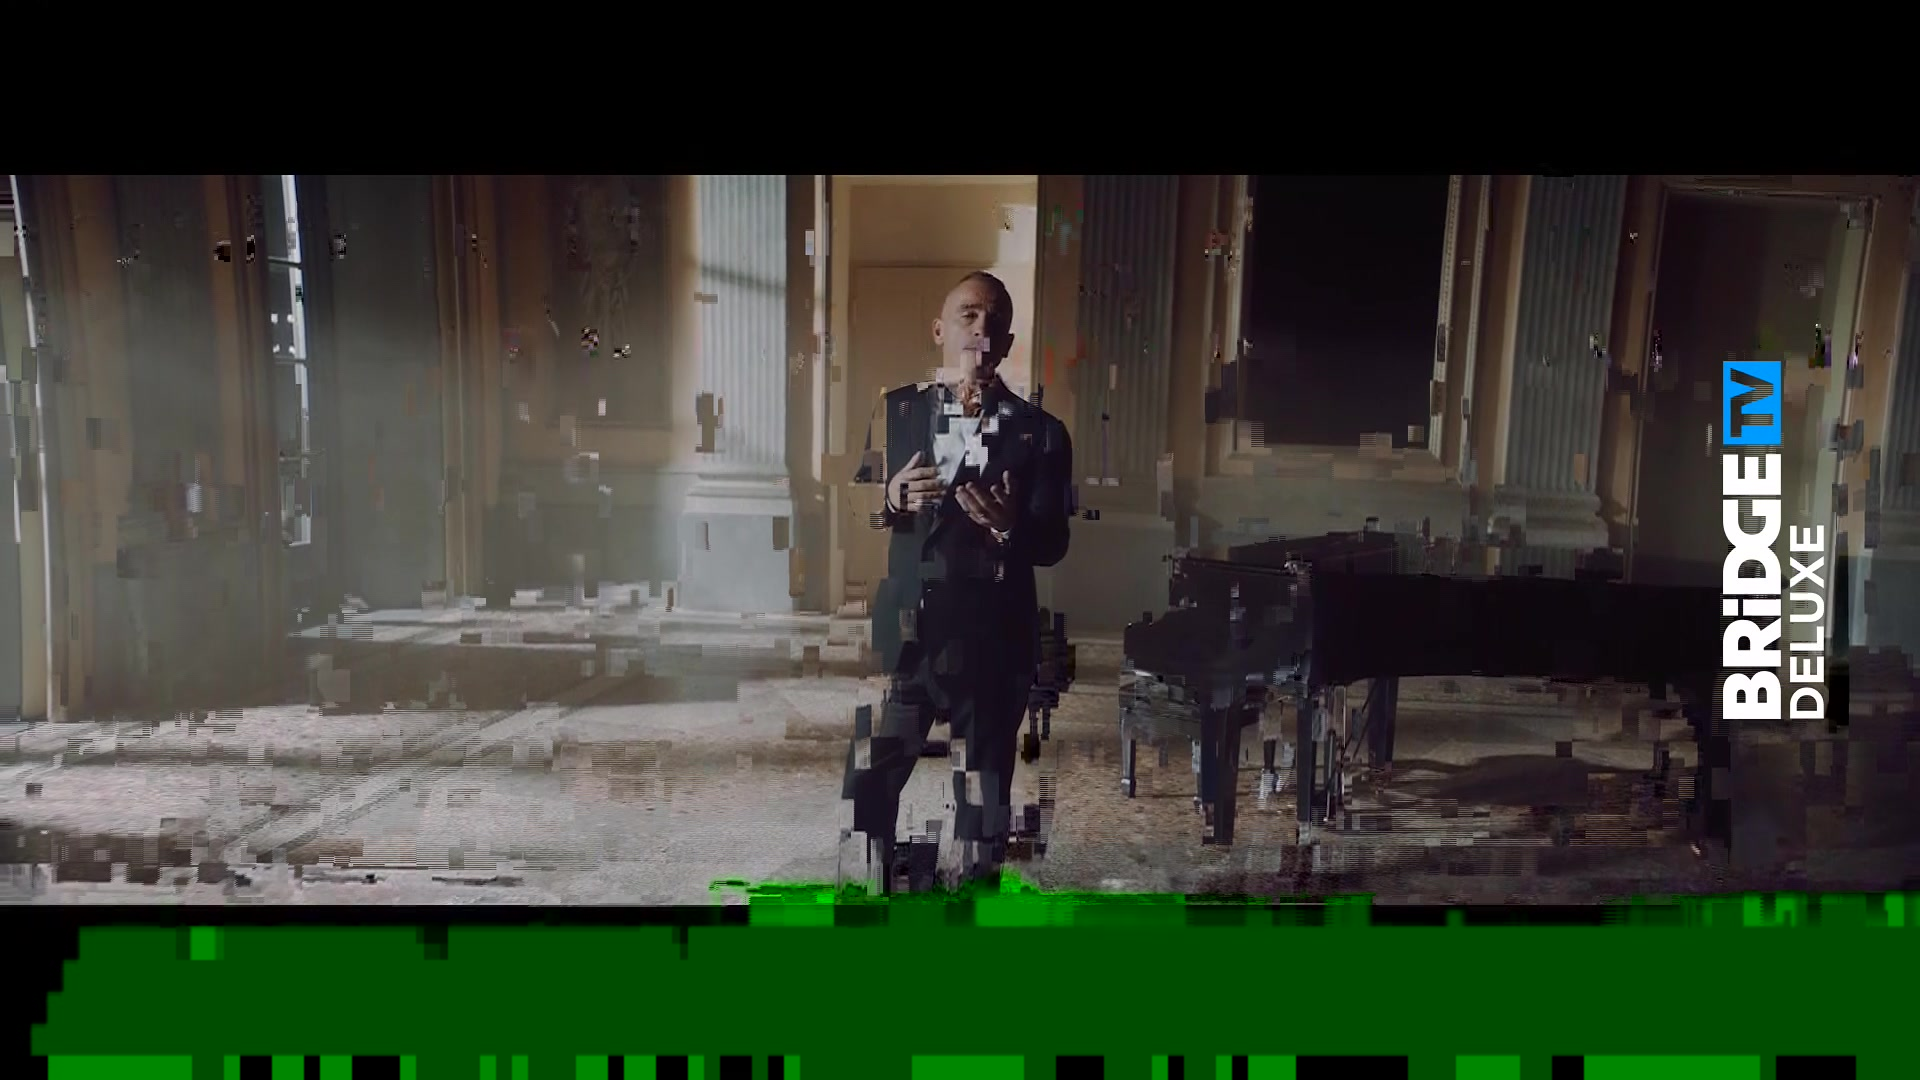Bridge_TV_Deluxe: (1714, 353, 1832, 731)
